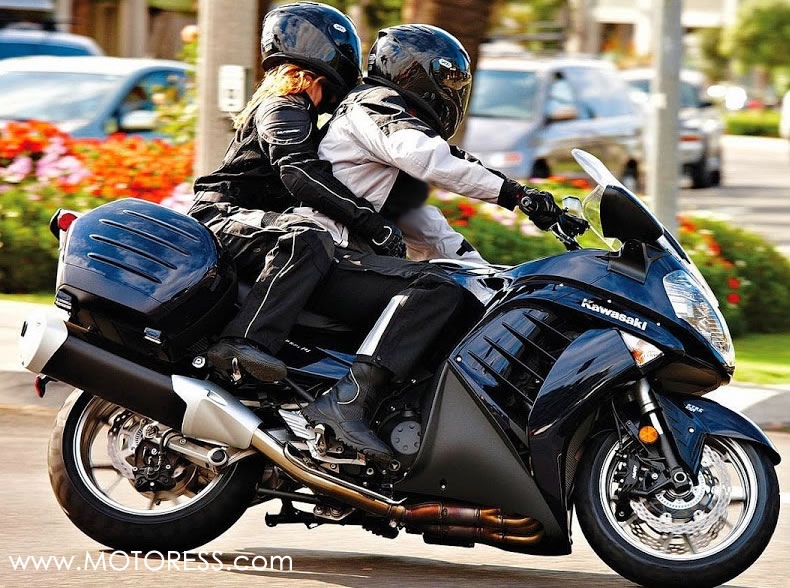with_helmet: (365, 21, 469, 130), (258, 3, 368, 78)
